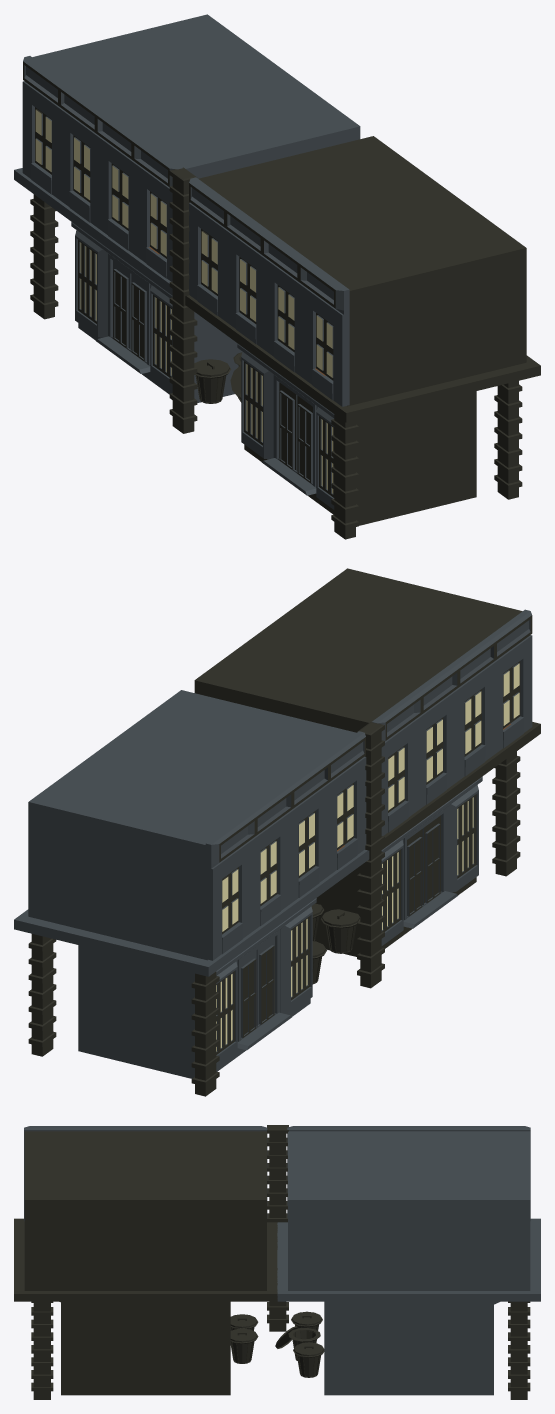
The model's file is ZefirAmontoado.fbx.
3 views of the same model, one above another, from view 1: azimuth 30°, elevation 25°; view 2: azimuth 150°, elevation 25°; view 3: azimuth 270°, elevation 25° (orthographic). The views are drawn at different scales.
Visible parts, largest first — view 1: Cube.101_Cube.001; view 2: Cube.101_Cube.001; view 3: Cube.101_Cube.001.
Part boxes in pixels (bbox=[...]): Cube.101_Cube.001: bbox=[14, 14, 540, 539]; Cube.101_Cube.001: bbox=[14, 568, 540, 1096]; Cube.101_Cube.001: bbox=[14, 1125, 540, 1399].
Size of the model in its own units: 4730 by 5966 by 13749.
